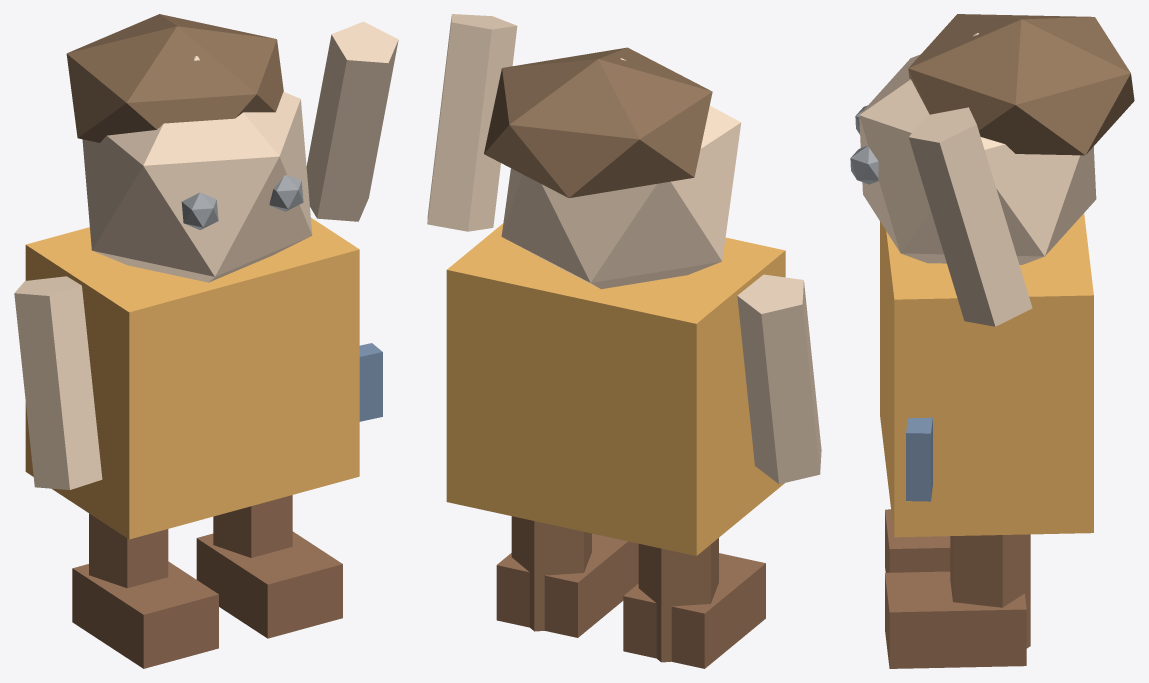
Rendered from npcpose_villager_wave_08.glb.
The picture shows the model from 3 angles, left to right: view 1: azimuth 30°, elevation 25°; view 2: azimuth 150°, elevation 25°; view 3: azimuth 270°, elevation 25°; orthographic projection. The views are drawn at different scales.
Parts seen in each view (by area): view 1: npcpose; view 2: npcpose; view 3: npcpose.
Part boxes in pixels (box(x1,y1,x2,y2)): npcpose: box(14, 14, 398, 668); npcpose: box(427, 14, 821, 668); npcpose: box(850, 14, 1134, 668).
Size of the model in its own units: 0.7038 by 1.06 by 0.4552.
